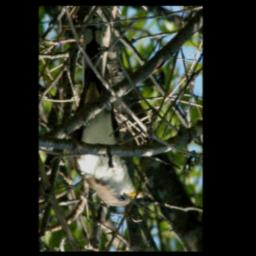Cuckoo: (68, 17, 149, 207)
